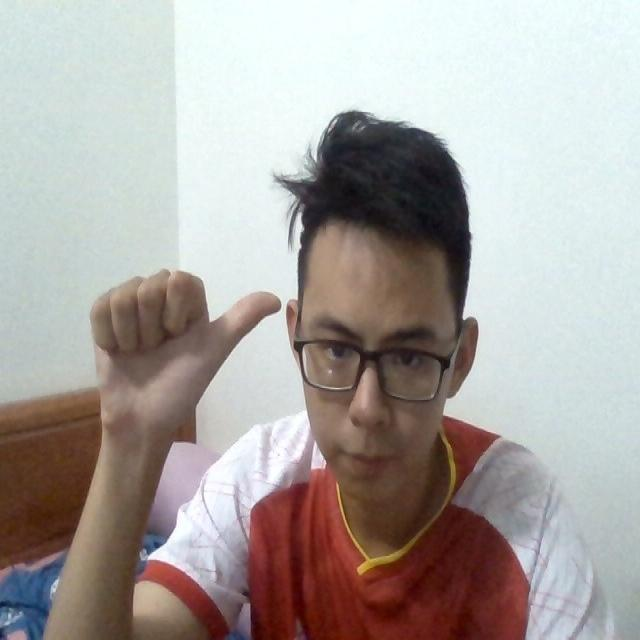A: (85, 259, 284, 422)
